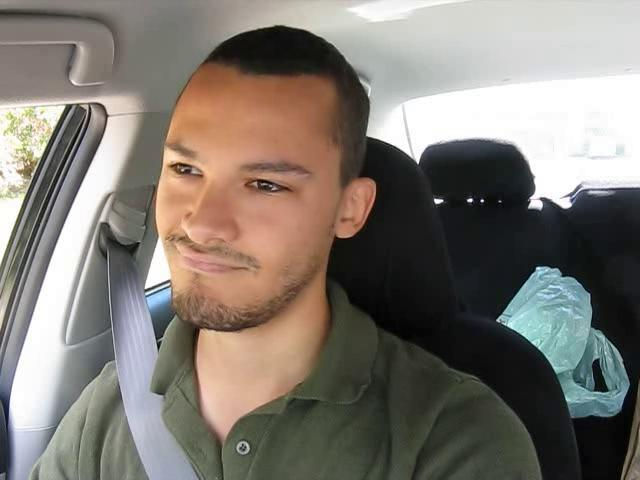no_yawn: (155, 239, 266, 289)
open_eyeL: (155, 149, 215, 191)
open_eyeR: (232, 164, 311, 209)
